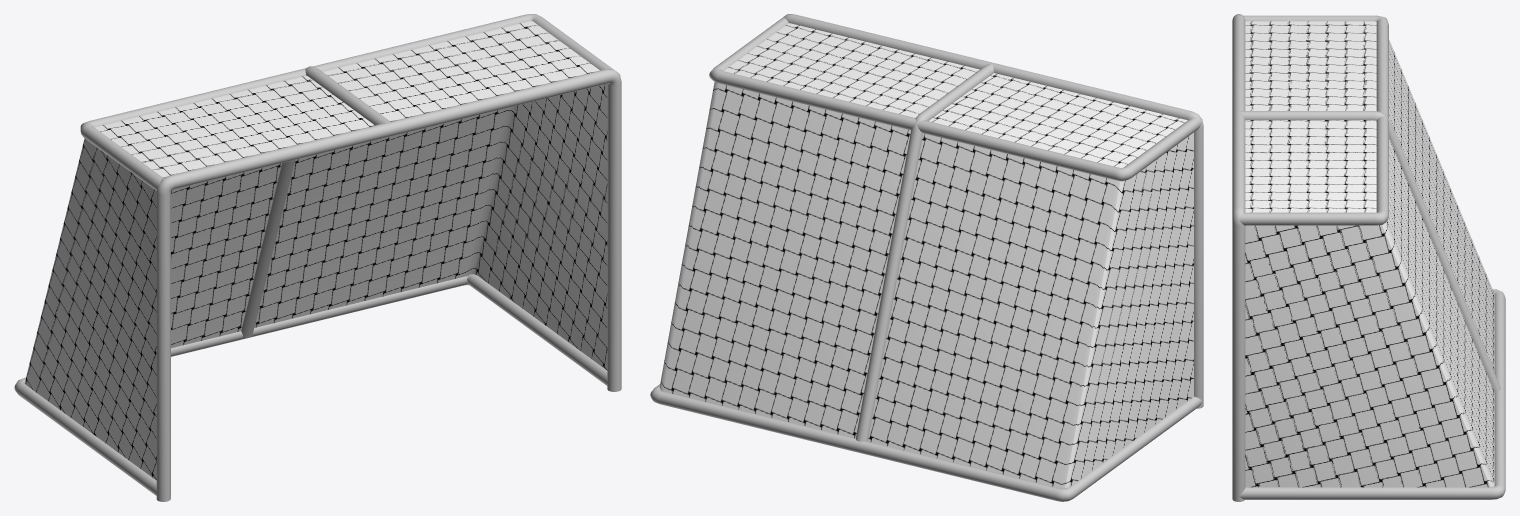
File: hockey_goal.fbx
The picture shows the model from 3 angles, left to right: view 1: azimuth 30°, elevation 25°; view 2: azimuth 150°, elevation 25°; view 3: azimuth 270°, elevation 25°; orthographic projection. The views are drawn at different scales.
Parts seen in each view (by area): view 1: Box001; view 2: Box001; view 3: Box001.
Part boxes in pixels (bbox=[...]): Box001: bbox=[14, 14, 621, 501]; Box001: bbox=[650, 14, 1203, 501]; Box001: bbox=[1232, 14, 1505, 501].
Size of the model in its own units: 1.88 by 1.24 by 1.07.
